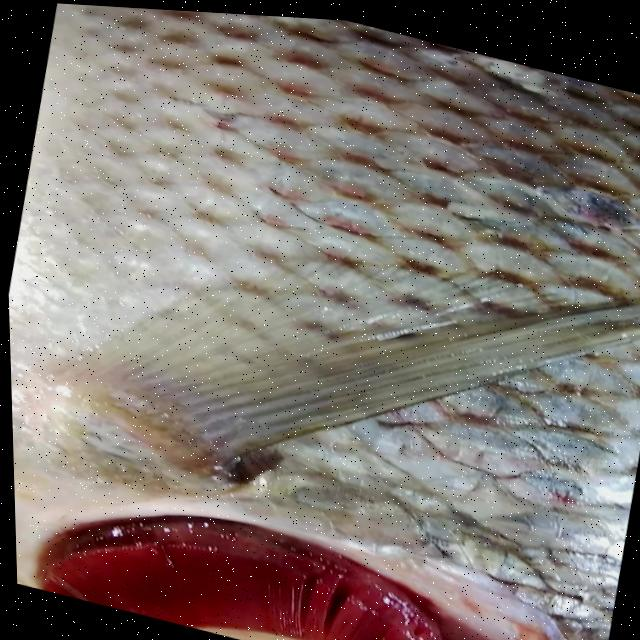Fresh: (11, 452, 488, 640)
